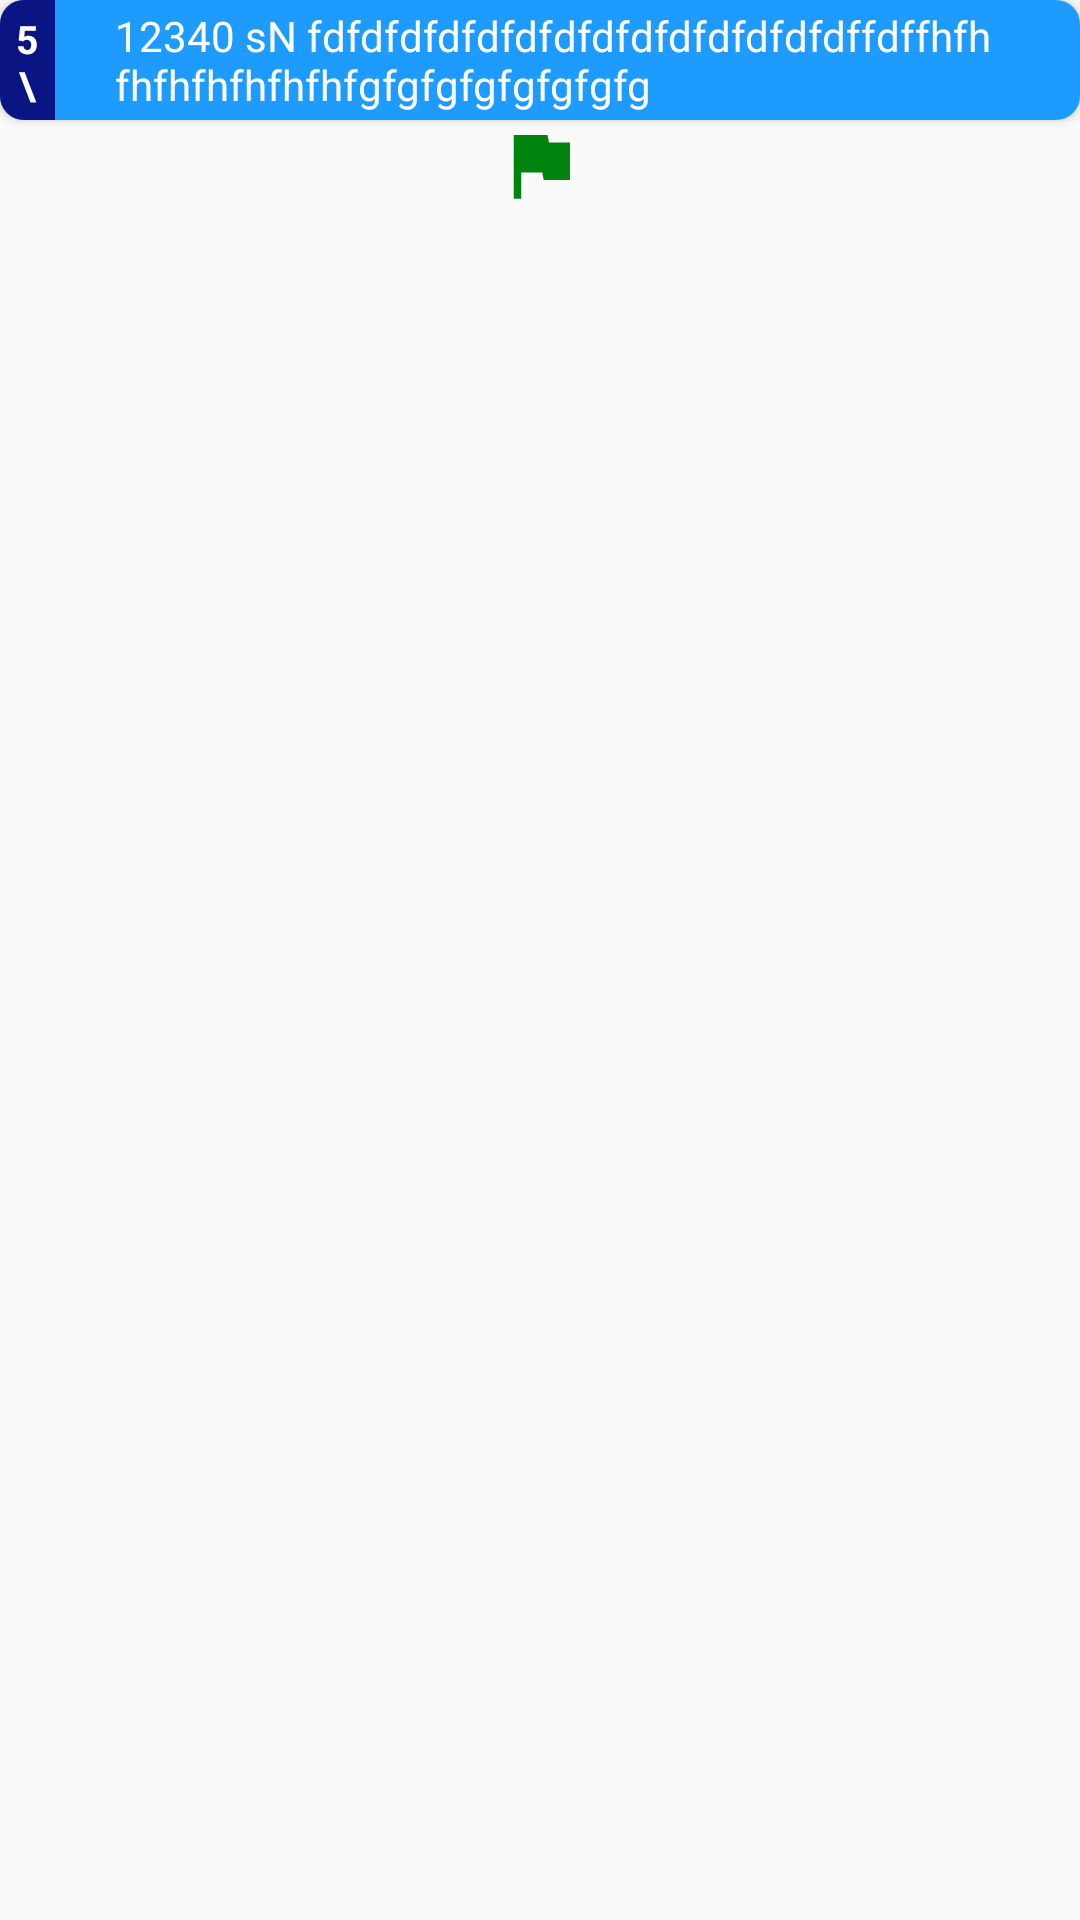

Where to tap for icons on this 1080w x 1920h app screen, as point (x, y):
flag: point (541, 167)
